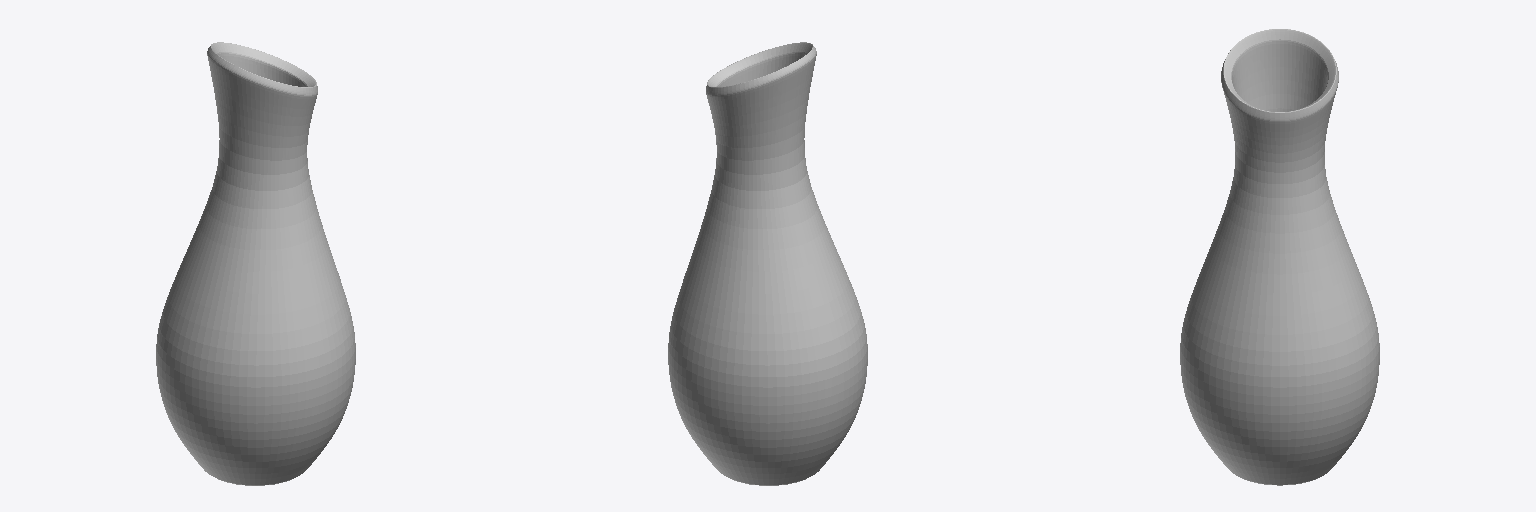
Rendered from vaso.obj.
3 views of the same model, side by side, from view 1: azimuth 30°, elevation 25°; view 2: azimuth 150°, elevation 25°; view 3: azimuth 270°, elevation 25° (orthographic).
Visible parts, largest first — view 1: Cylinder001; view 2: Cylinder001; view 3: Cylinder001.
Part boxes in pixels (x1,y1,x2,y2): Cylinder001: (156, 42, 355, 485); Cylinder001: (668, 42, 867, 485); Cylinder001: (1180, 29, 1379, 485).
Bounding box in the file's own units: 153 × 353 × 153.